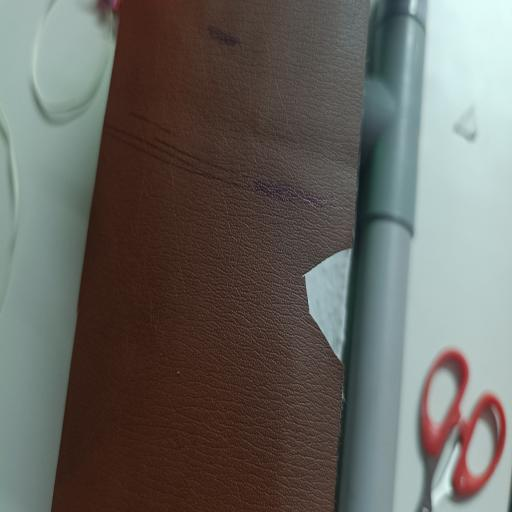belt_tear: (66, 69, 379, 398)
